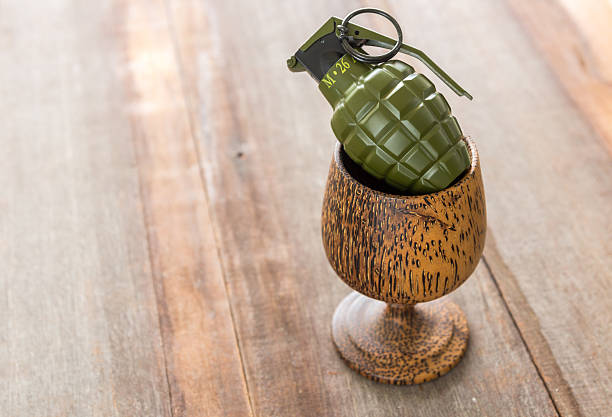e1: (290, 3, 472, 180)
